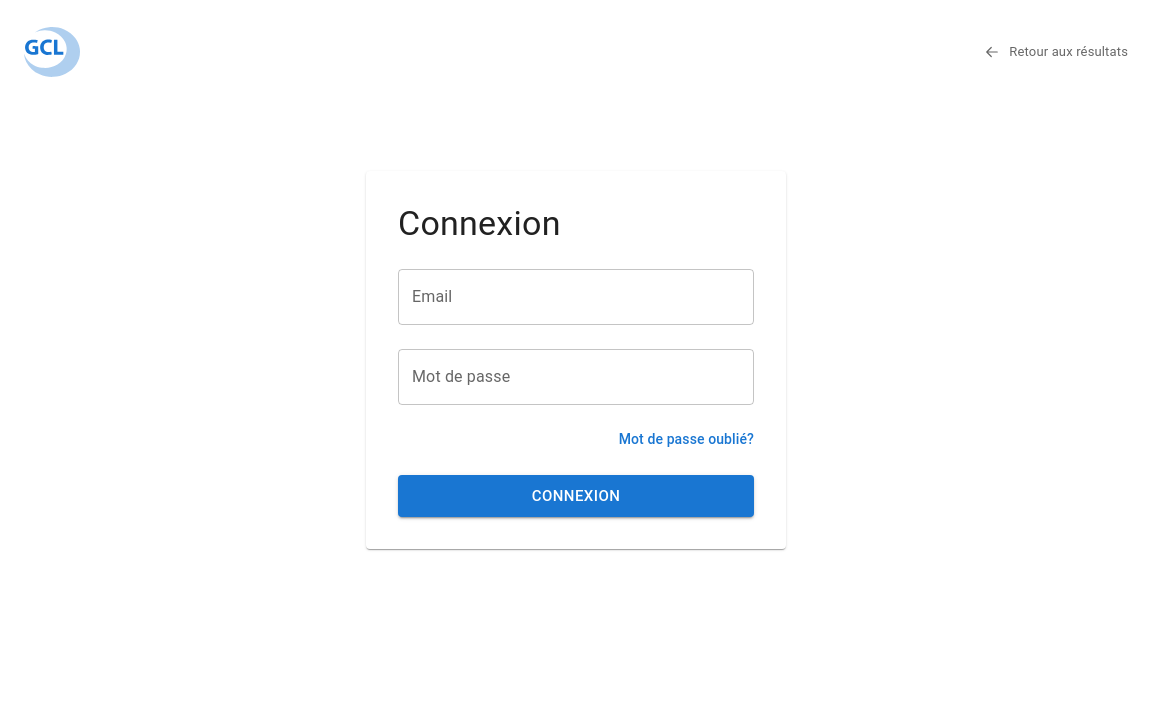
Scenario: login › requires both credentials (email only)
This screenshot has width=1152, height=720.
Type "member@example.test" into the field labelled "Email".
click(576, 297); type("member@example.test")  # box x1=398 y1=269 x2=754 y2=325
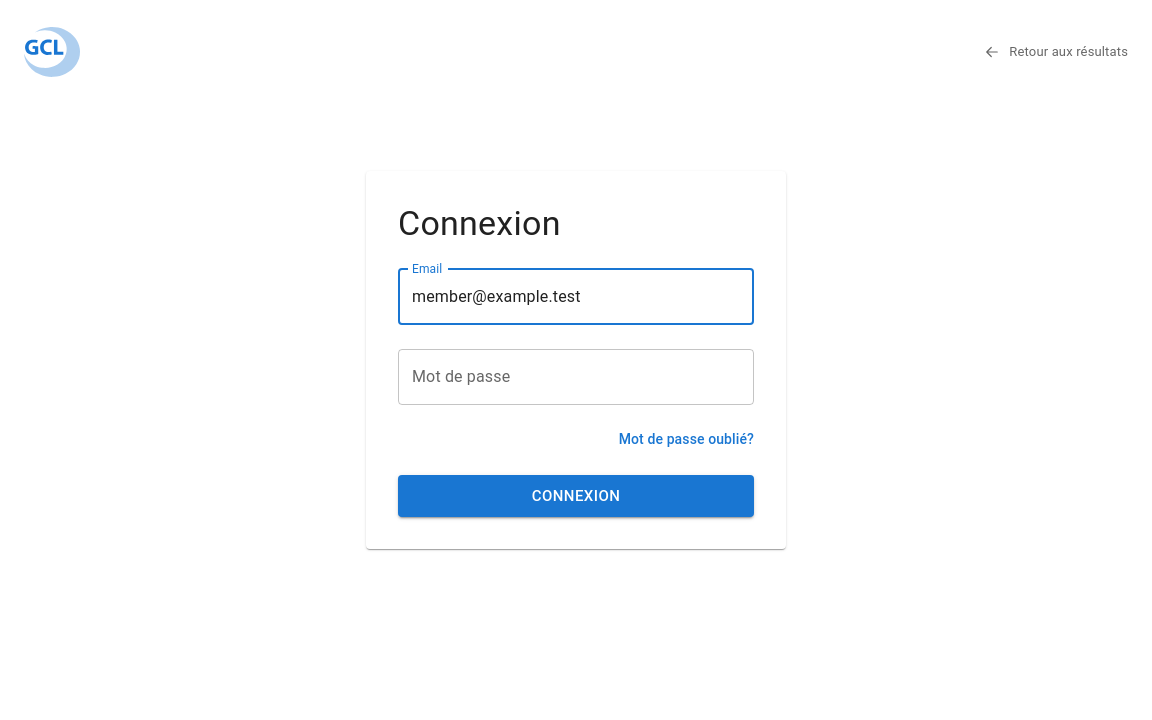
Click the button "Connexion".
click(576, 496)  # box x1=398 y1=475 x2=754 y2=517
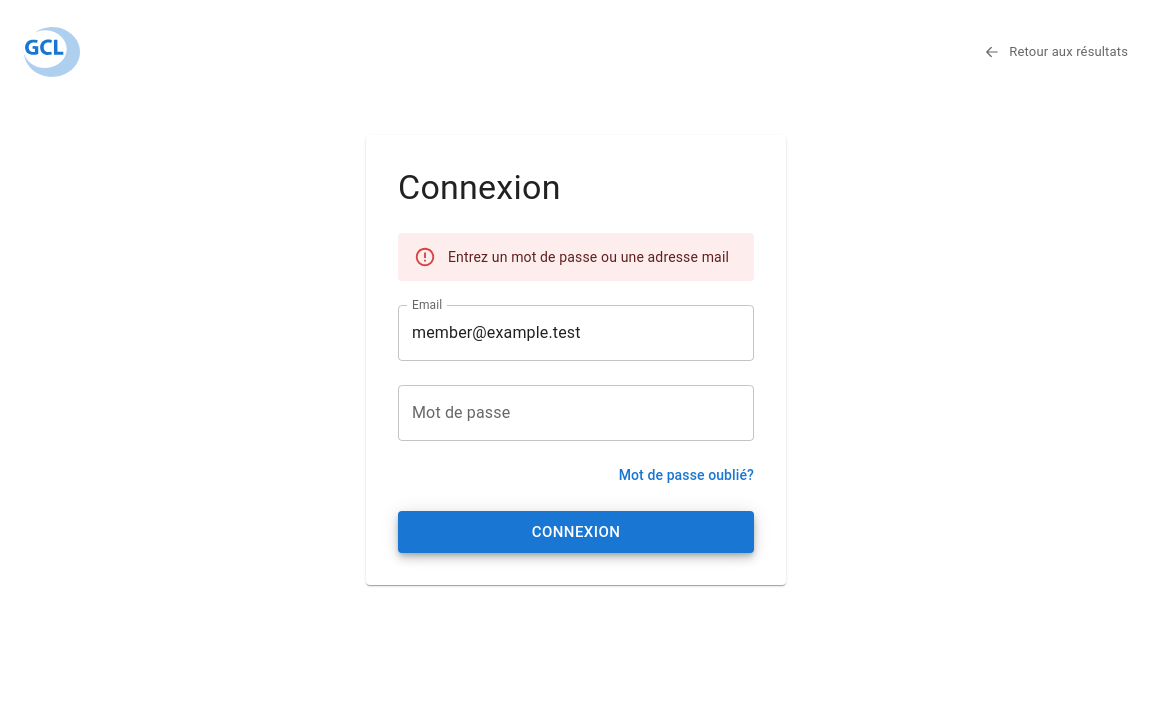
Check: the message reads "Entrez un mot de passe ou une adresse mail", box x1=448 y1=249 x2=729 y2=265
